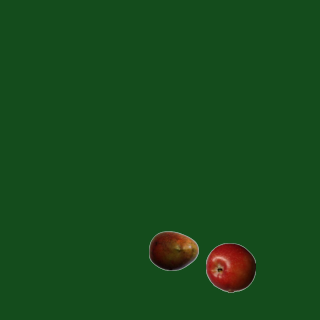Apple Braeburn: (205, 242, 255, 292)
Mango Red: (148, 225, 198, 275)
